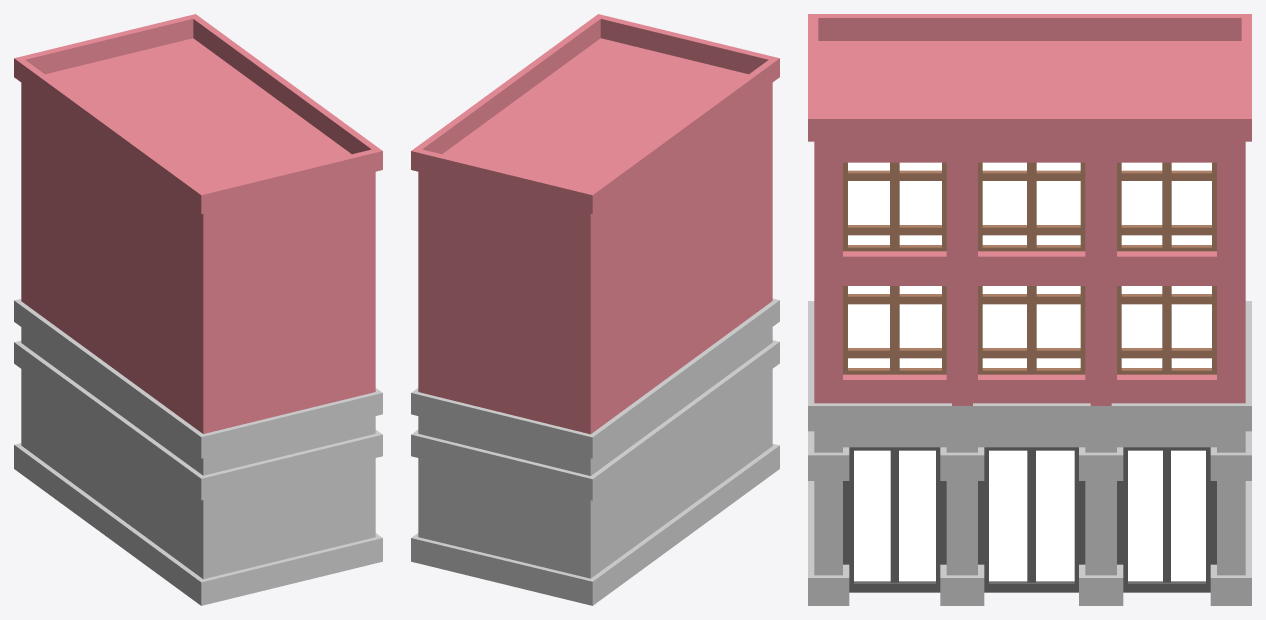
File: House 1.5.fbx
3 views of the same model, side by side, from view 1: azimuth 30°, elevation 25°; view 2: azimuth 150°, elevation 25°; view 3: azimuth 270°, elevation 25° (orthographic). The views are drawn at different scales.
Parts seen in each view (by area): view 1: House 1.006; view 2: House 1.006; view 3: House 1.006.
Part boxes in pixels (x1,y1,x2,y2): House 1.006: (14, 14, 382, 605); House 1.006: (411, 14, 779, 605); House 1.006: (808, 14, 1251, 605).
Size of the model in its own units: 785 by 1696 by 1401.
